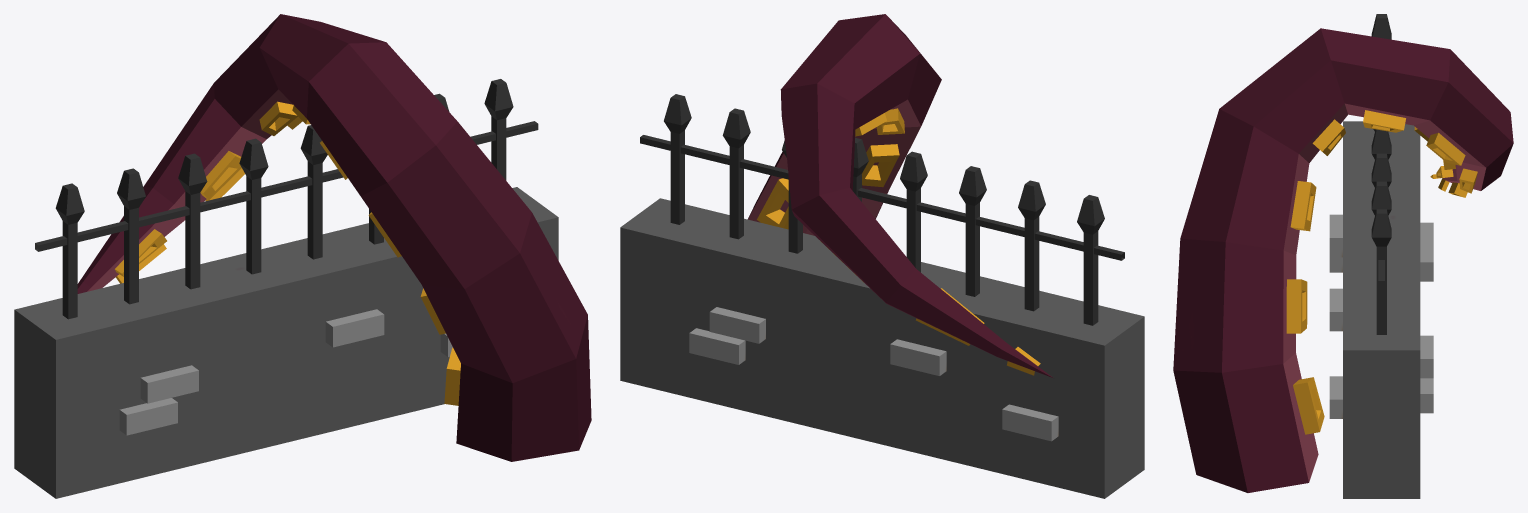
File: Fence_Tentacles.fbx
The picture shows the model from 3 angles, left to right: view 1: azimuth 30°, elevation 25°; view 2: azimuth 150°, elevation 25°; view 3: azimuth 270°, elevation 25°; orthographic projection. The views are drawn at different scales.
Parts seen in each view (by area): view 1: Fence_Tentacles; view 2: Fence_Tentacles; view 3: Fence_Tentacles.
Part boxes in pixels (<box>): Fence_Tentacles: <box>14,14,591,498</box>; Fence_Tentacles: <box>620,14,1144,498</box>; Fence_Tentacles: <box>1173,14,1513,498</box>.
Size of the model in its own units: 2 by 1.51 by 1.26.
